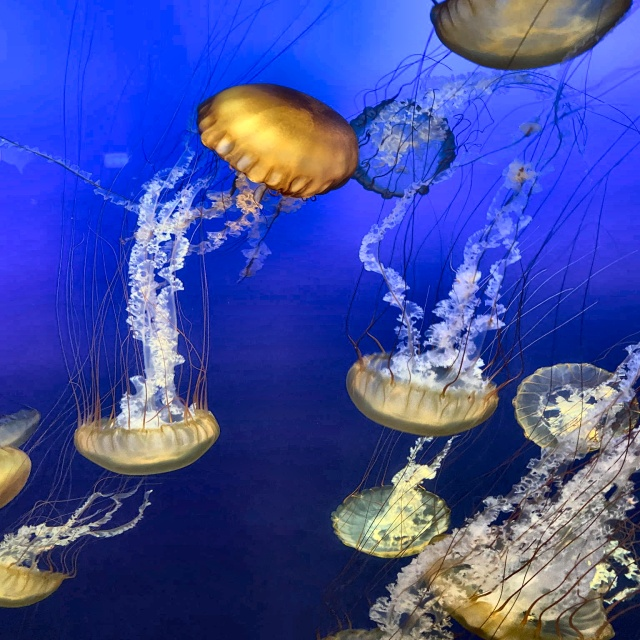jellyfish: (422, 530, 628, 630), (195, 84, 360, 205), (432, 0, 626, 75), (344, 352, 499, 433), (345, 97, 456, 200), (69, 397, 219, 471), (516, 363, 636, 453), (330, 480, 462, 554), (0, 555, 77, 608), (0, 446, 35, 512), (0, 402, 42, 444)
